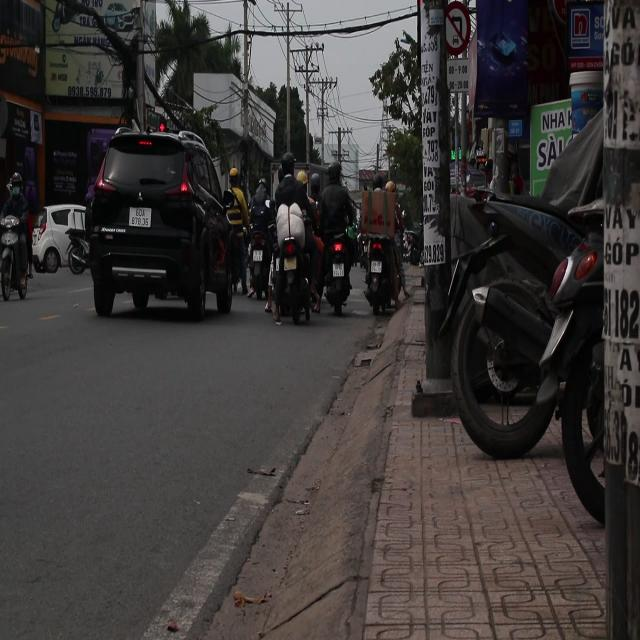car: (83, 132, 239, 320), (31, 204, 89, 271)
motorbike: (267, 206, 317, 327), (360, 224, 403, 341), (318, 210, 357, 330), (0, 204, 42, 302)
